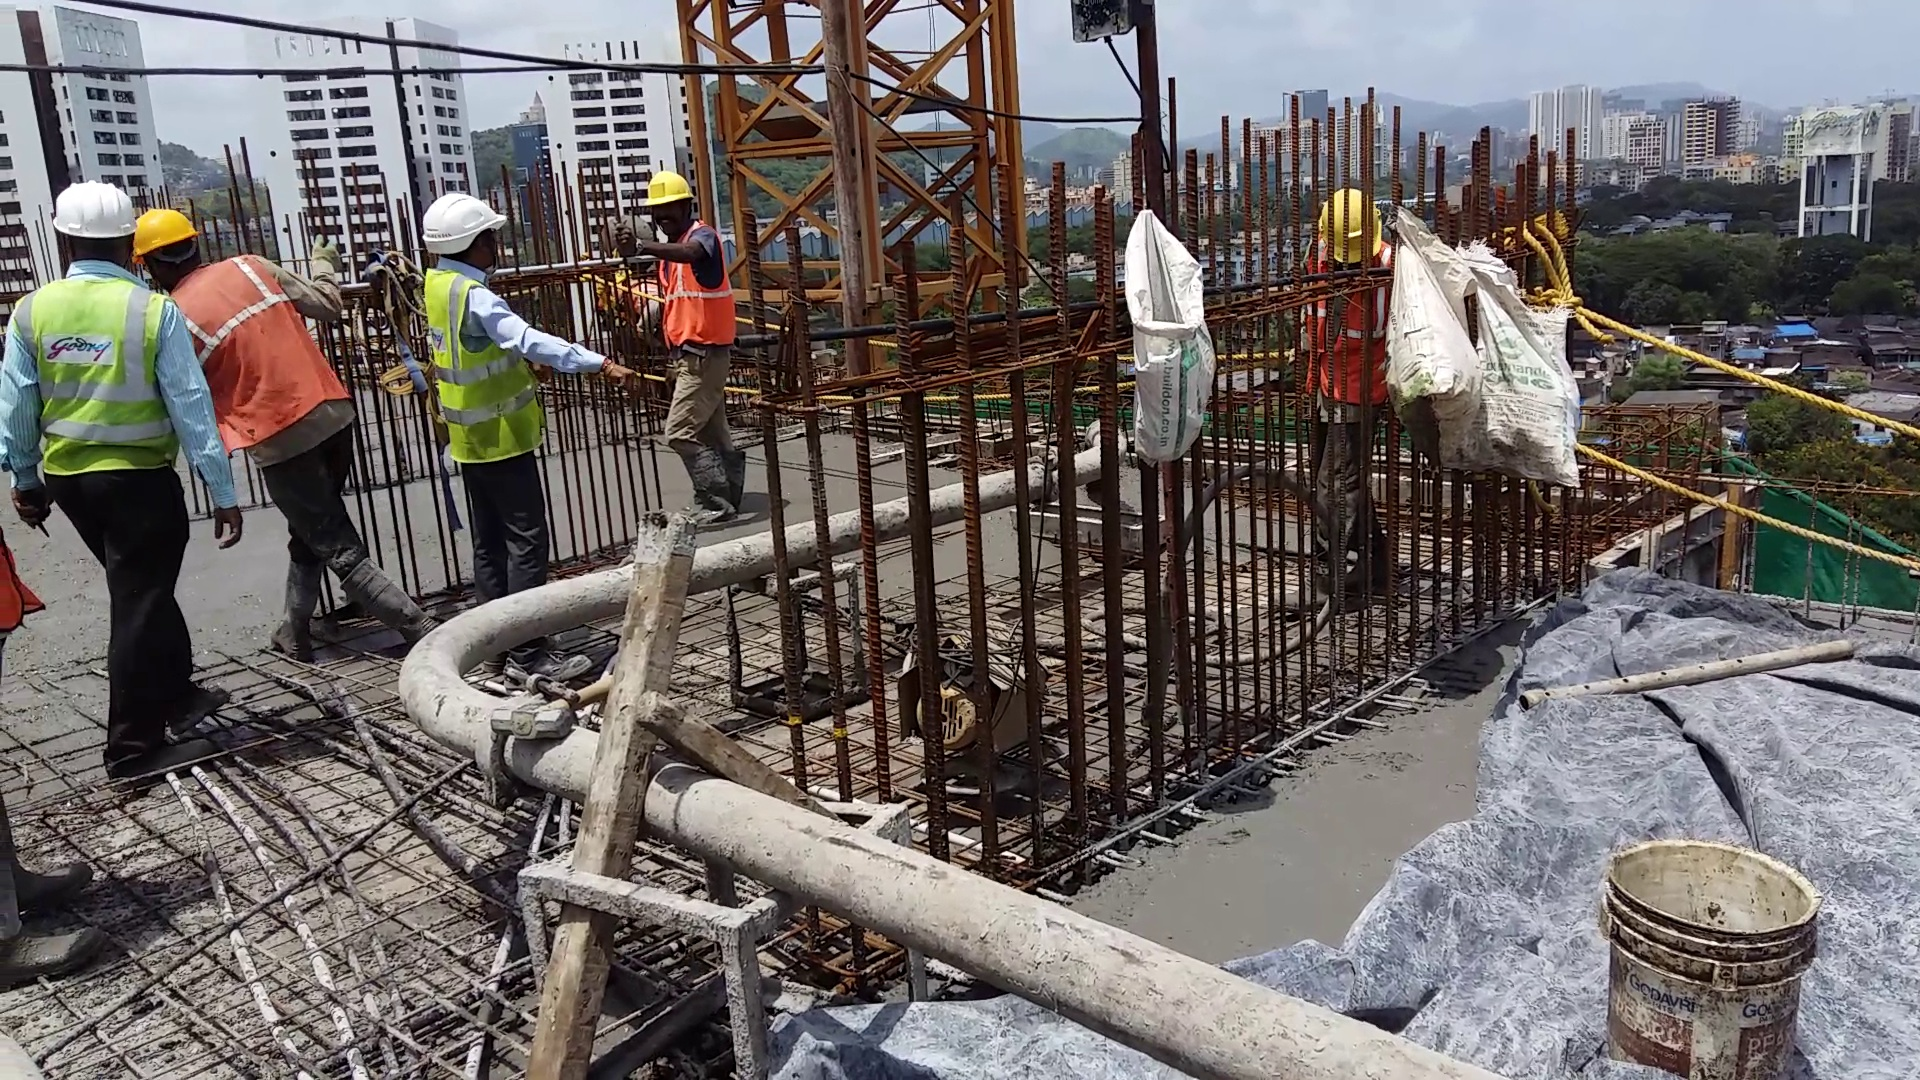SAFE: (137, 200, 357, 446), (5, 175, 171, 488), (421, 186, 567, 467), (632, 167, 764, 357)
